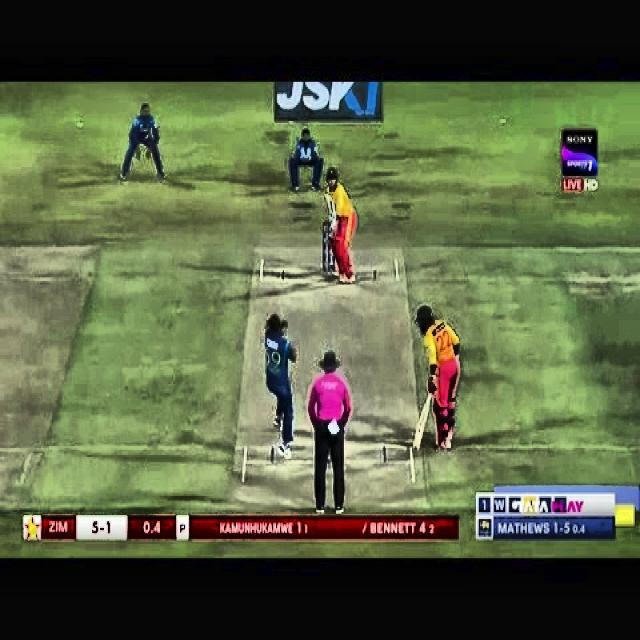Left-stump: (323, 222, 325, 271)
Middle-stump: (328, 223, 330, 270)
Right-stump: (332, 250, 335, 270)
